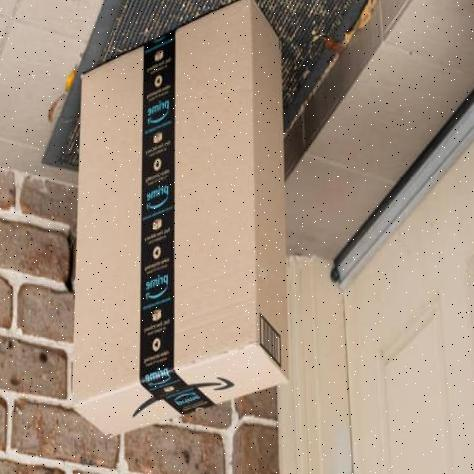Amazon: (70, 0, 288, 439)
